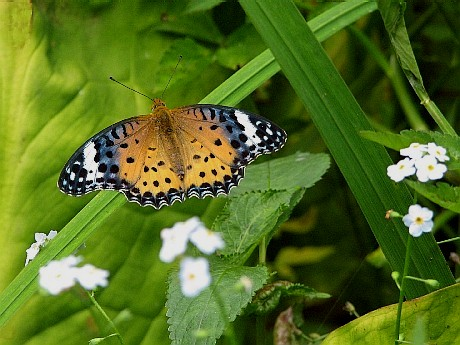Argyreus hyperbius: (56, 54, 296, 209)
butterfly: (58, 56, 298, 211)
